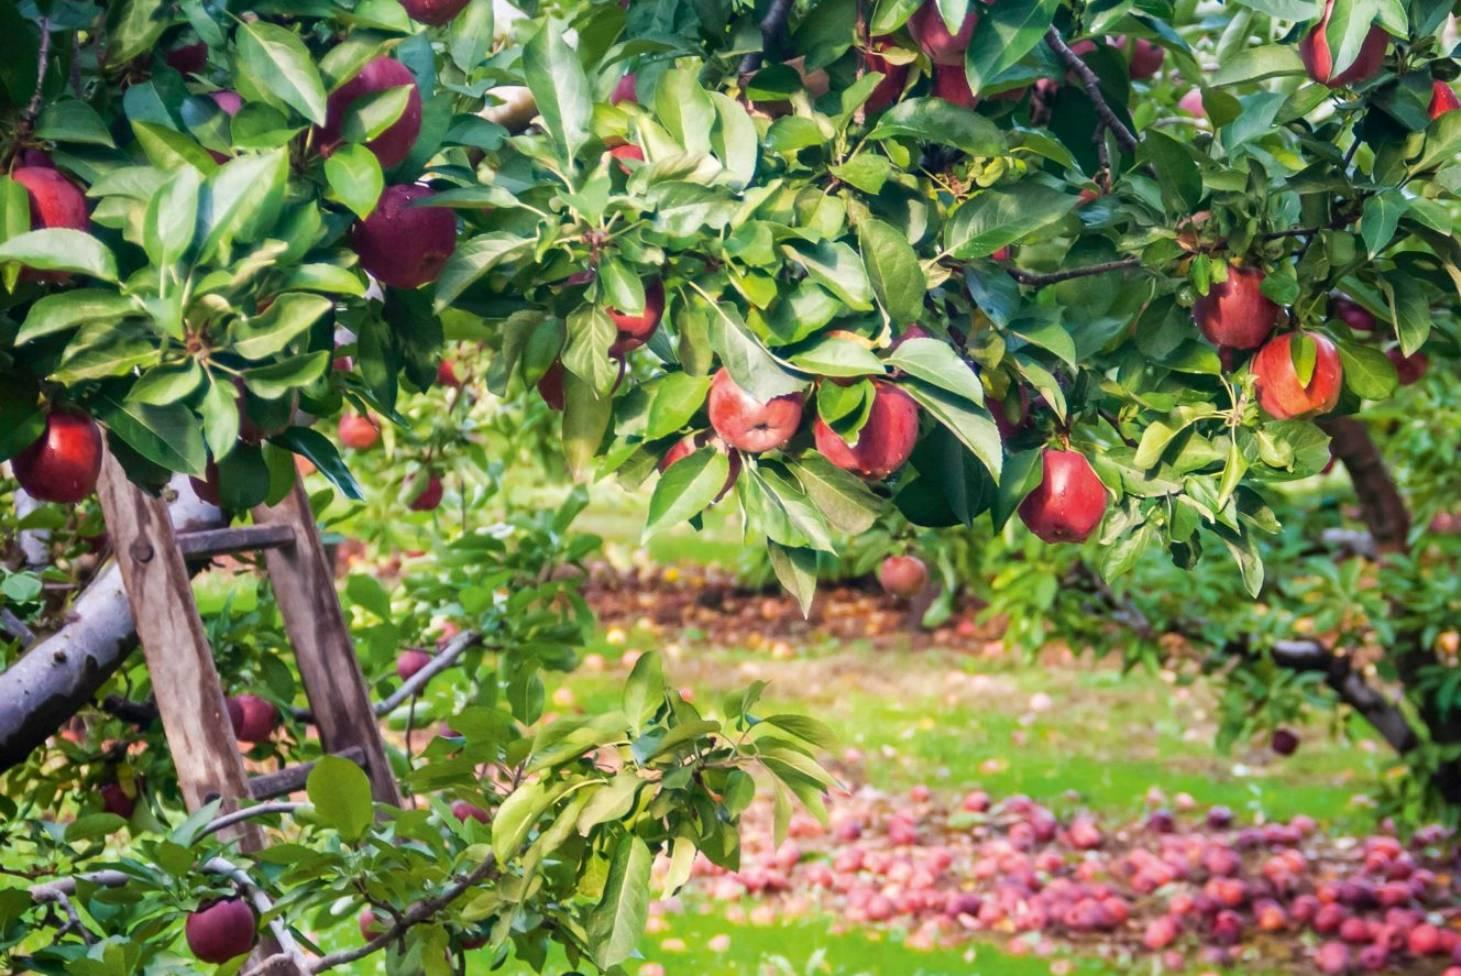apple: (346, 181, 458, 286), (813, 375, 918, 481), (10, 406, 104, 501), (707, 363, 804, 454), (1021, 449, 1108, 542), (1255, 329, 1341, 423), (1191, 263, 1278, 352)
